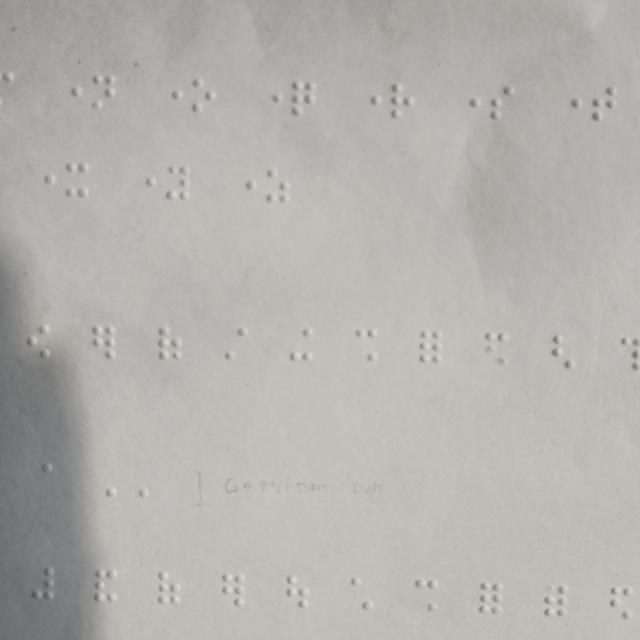at: (31, 566, 55, 601)
aw: (28, 324, 51, 359)
ay: (93, 568, 117, 603)
ayaw: (167, 165, 190, 200)
dot_5: (259, 79, 283, 114), (559, 85, 583, 120), (32, 163, 56, 198), (133, 165, 157, 200), (58, 75, 82, 109), (160, 79, 184, 113), (359, 82, 382, 117), (458, 86, 481, 121), (234, 168, 257, 202)
eksamen: (65, 163, 89, 197)
er: (92, 324, 116, 359)
han: (158, 326, 182, 360)
hanggang: (157, 571, 181, 605)
ibig: (224, 327, 248, 361)
ing: (290, 327, 313, 362)
kanila: (350, 576, 374, 611)
kislap: (291, 81, 315, 116)
mag: (354, 327, 378, 362)
maging: (414, 578, 437, 612)
mahal: (418, 329, 442, 364), (477, 580, 501, 615)
na: (543, 582, 567, 616)
nag: (484, 332, 508, 367)
naging: (609, 585, 632, 620)
ng: (551, 335, 575, 369)
noon: (91, 75, 115, 109)
opo: (192, 78, 216, 113)
raw: (221, 572, 245, 607)
roon: (390, 84, 414, 118)
salita: (266, 169, 290, 204)
subalit: (490, 86, 515, 121)
talaga: (591, 86, 616, 121)
tunay: (285, 574, 309, 609)
